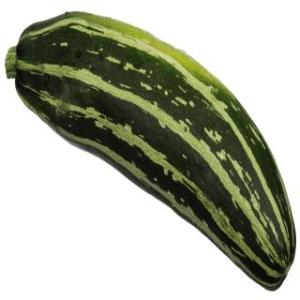zucchini: (0, 22, 298, 300)
